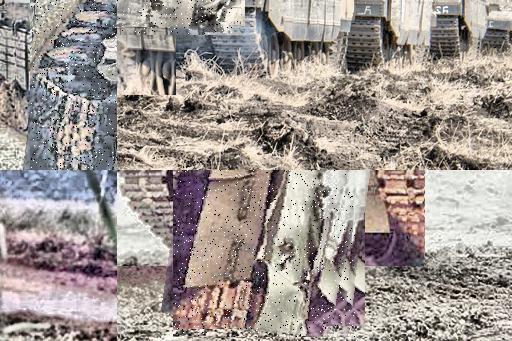tanks: (175, 171, 356, 338), (32, 1, 118, 171), (167, 1, 355, 71), (347, 1, 435, 71), (118, 1, 241, 35), (431, 1, 489, 58), (483, 1, 512, 51)
